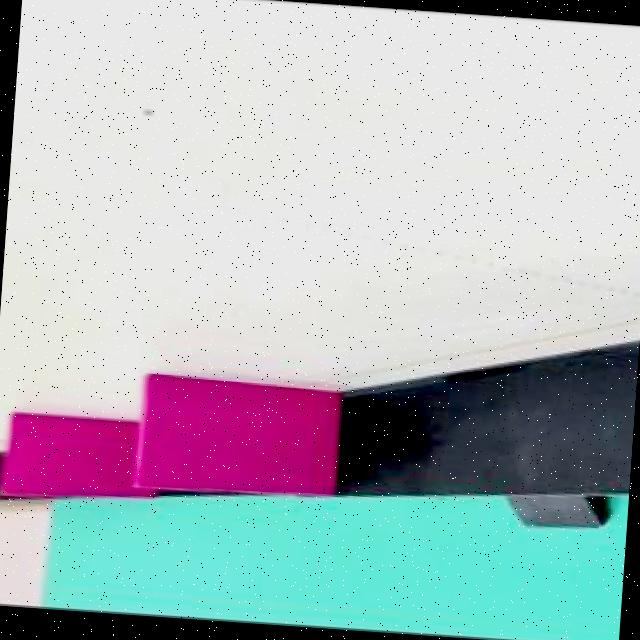xparking: (140, 376, 338, 495), (3, 412, 138, 497)
